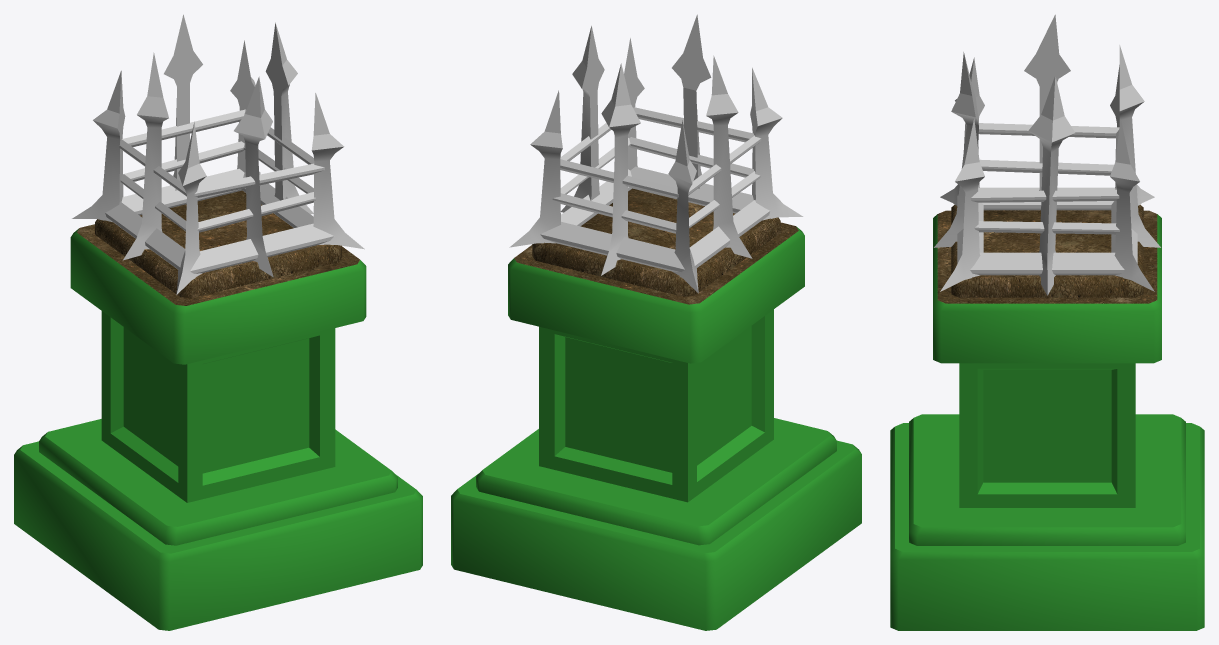
The model's file is DG_Brasero_A.FBX.
The picture shows the model from 3 angles, left to right: view 1: azimuth 30°, elevation 25°; view 2: azimuth 150°, elevation 25°; view 3: azimuth 270°, elevation 25°; orthographic projection. The views are drawn at different scales.
Visible parts, largest first — view 1: DG_Brasero_A; view 2: DG_Brasero_A; view 3: DG_Brasero_A.
Part boxes in pixels (left/top/right/bottom): DG_Brasero_A: left=14, top=14, right=422, bottom=630; DG_Brasero_A: left=451, top=14, right=861, bottom=630; DG_Brasero_A: left=890, top=14, right=1204, bottom=630.
Bounding box in the file's own units: 89.18 × 163 × 89.18.
